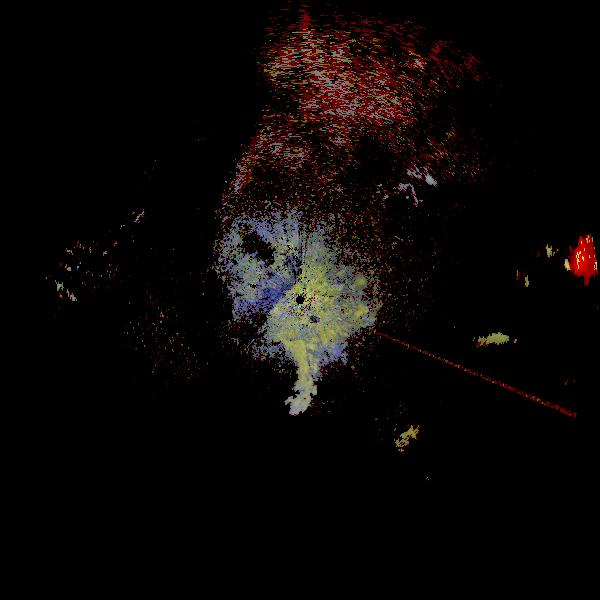roost: (235, 318, 352, 435), (377, 405, 494, 522)
